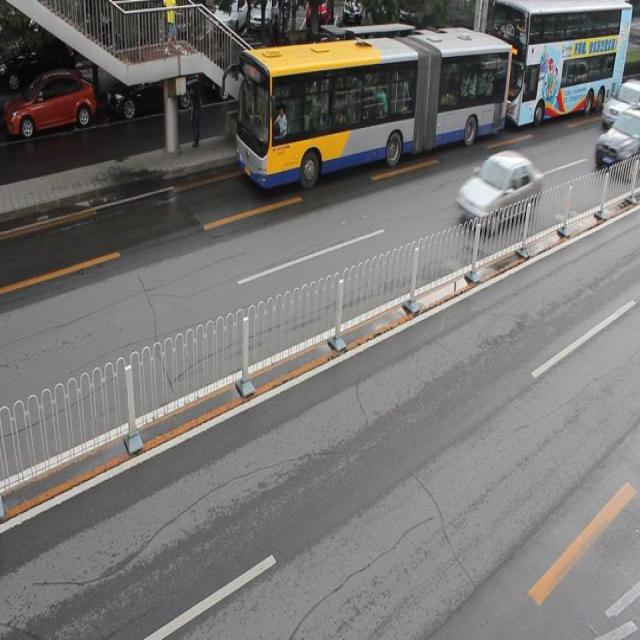car: (457, 149, 540, 229), (0, 70, 96, 137), (104, 57, 196, 117), (206, 38, 277, 104), (294, 41, 363, 98), (593, 107, 640, 180), (600, 78, 640, 129)
van: (238, 25, 510, 188), (488, 1, 630, 126)
